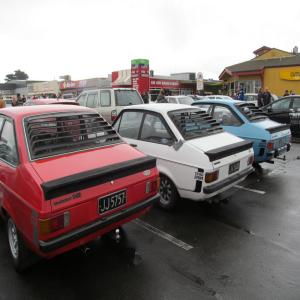Vehicle-registration-plate: (96, 193, 125, 222), (229, 162, 242, 178)
